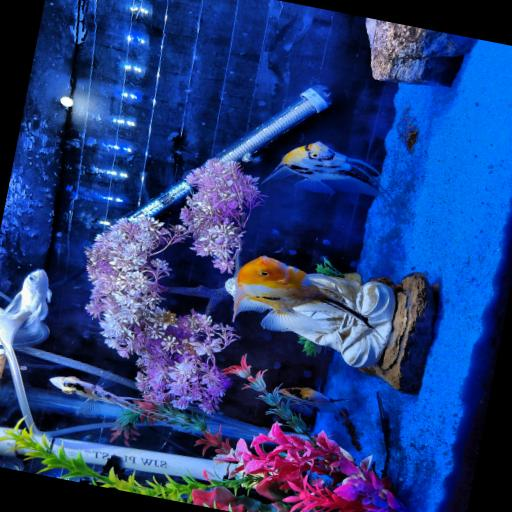Fish: (233, 256, 372, 334), (262, 142, 379, 196), (0, 270, 51, 342), (50, 377, 140, 414), (5, 270, 51, 328), (280, 388, 346, 413)
